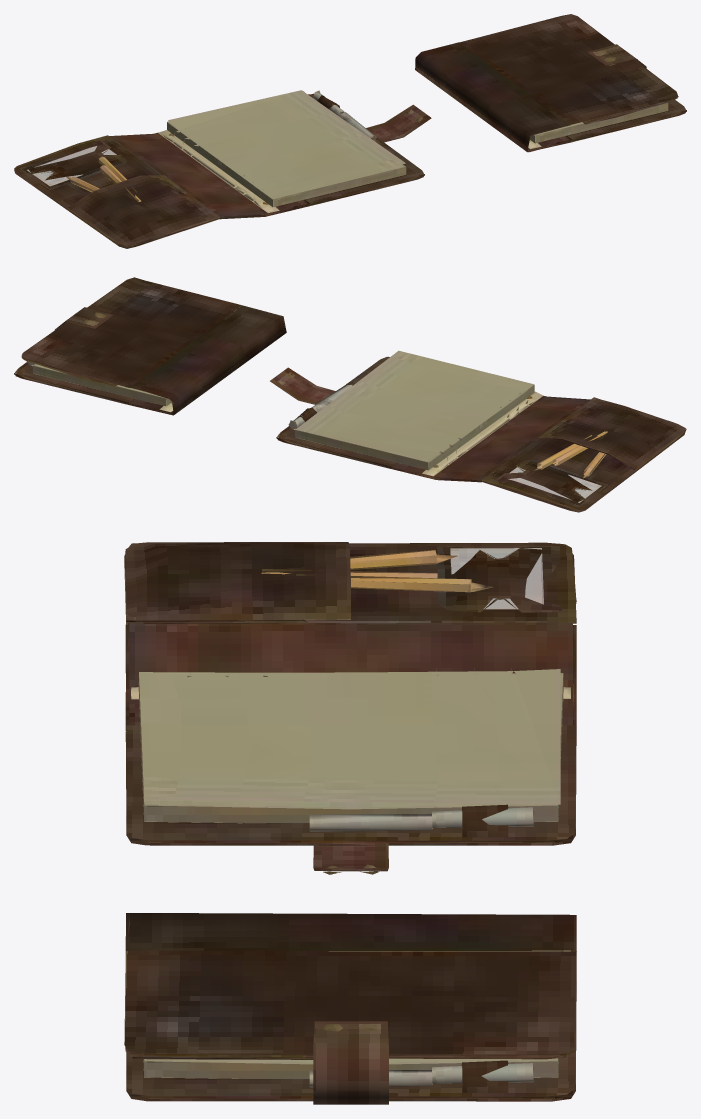
Rendered from binder_notebook.glb.
The picture shows the model from 3 angles, top to bottom: view 1: azimuth 30°, elevation 25°; view 2: azimuth 150°, elevation 25°; view 3: azimuth 270°, elevation 25°; orthographic projection. The views are drawn at different scales.
Visible parts, largest first — view 1: binder_notebook; view 2: binder_notebook; view 3: binder_notebook.
Part boxes in pixels (<box>): binder_notebook: <box>14,14,686,248</box>; binder_notebook: <box>14,277,686,512</box>; binder_notebook: <box>124,542,576,1104</box>.
Size of the model in its own units: 0.5832 by 0.0248 by 0.2.
1 material, 1 textured.
